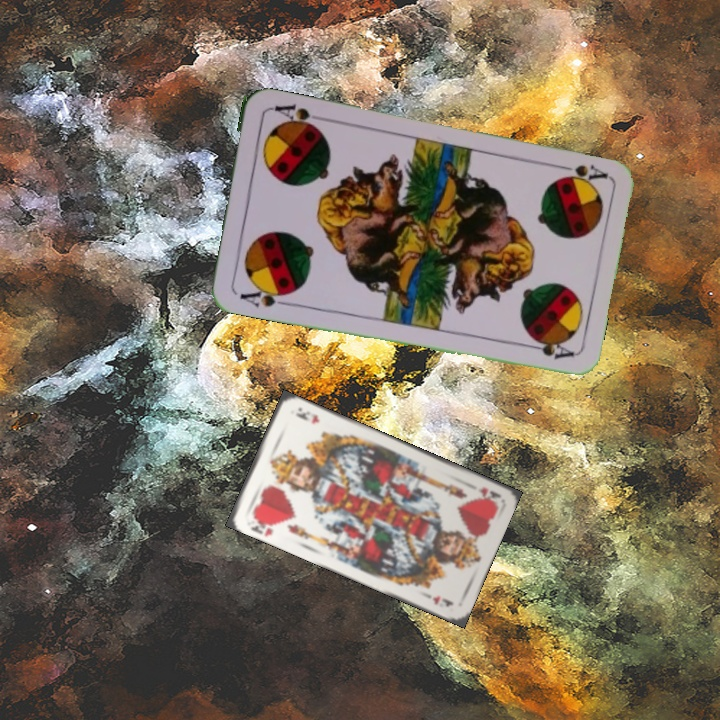HK: (246, 512, 279, 539), (474, 483, 503, 506)
SA: (236, 281, 291, 310), (551, 160, 610, 186)
